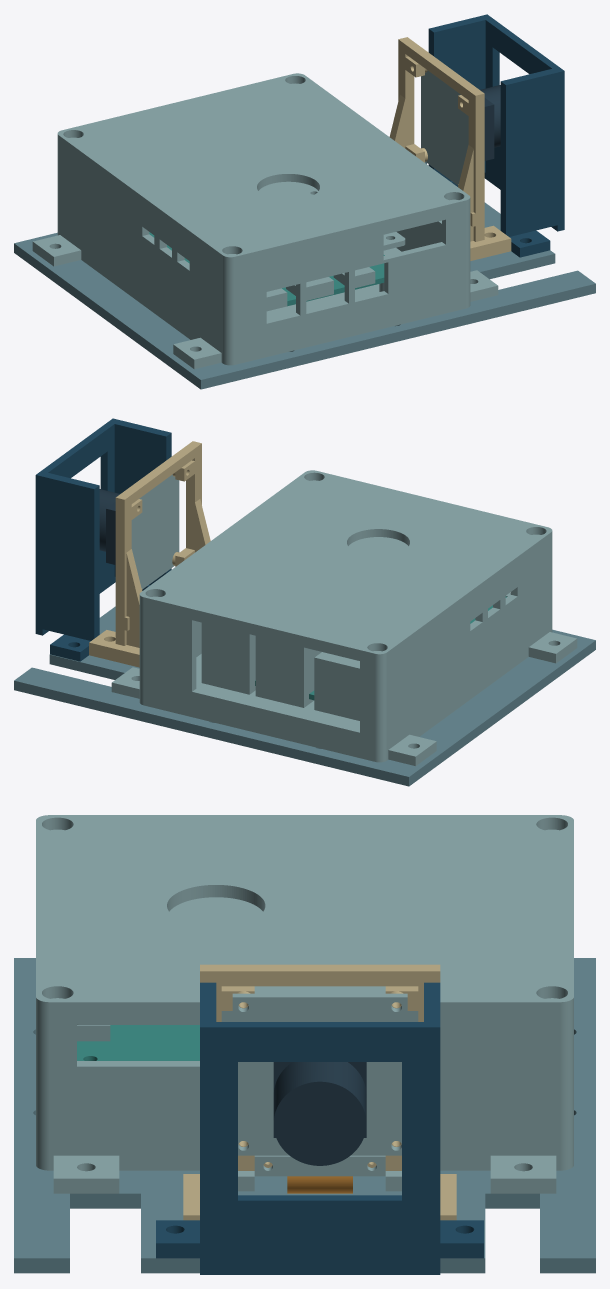
Rendered from vision-v2.glb.
3 views of the same model, one above another, from view 1: azimuth 30°, elevation 25°; view 2: azimuth 150°, elevation 25°; view 3: azimuth 270°, elevation 25° (orthographic). The views are drawn at different scales.
Visible parts, largest first — view 1: CASE_lid, NEW_CaseBaseWithEars, NEW_RemovableGuard, NEW_CommonFrame, NEW_CameraCarrier, REF_CameraPCB, REF_LensEnvelope, REF_top_plate, REF_lbc3_board, REF_mini_HDMI_envelope; view 2: CASE_lid, NEW_CaseBaseWithEars, NEW_RemovableGuard, NEW_CommonFrame, NEW_CameraCarrier, REF_CameraPCB, REF_USB3_envelope, REF_USB2_envelope, REF_RJ45_envelope, REF_LensEnvelope, REF_top_plate; view 3: CASE_lid, NEW_RemovableGuard, NEW_CommonFrame, NEW_CaseBaseWithEars, REF_CameraPCB, NEW_CameraCarrier, REF_LensEnvelope, REF_lbc3_board, NEW_CameraCableJaw, REF_top_plate, REF_FPCRoute_Assumed, NEW_ExitSaddle.
Boxes of the visible parts, x1,y1,x2,y2 form: CASE_lid: (57,73,470,306); NEW_CaseBaseWithEars: (32,184,498,369); NEW_RemovableGuard: (428,14,564,257); NEW_CommonFrame: (14,161,595,389); NEW_CameraCarrier: (389,37,511,260); REF_CameraPCB: (421,70,468,185); REF_LensEnvelope: (480,85,500,160); REF_top_plate: (258,181,405,250); REF_lbc3_board: (149,232,384,306); REF_mini_HDMI_envelope: (286,277,333,300); CASE_lid: (139,470,552,703); NEW_CaseBaseWithEars: (111,580,577,766); NEW_RemovableGuard: (35,418,171,661); NEW_CommonFrame: (14,606,595,786); NEW_CameraCarrier: (89,441,210,667); REF_CameraPCB: (131,474,179,589); REF_USB3_envelope: (255,636,321,707); REF_USB2_envelope: (201,622,255,694); REF_RJ45_envelope: (314,652,359,720); REF_LensEnvelope: (99,489,119,564); REF_top_plate: (348,537,408,553); CASE_lid: (36,815,573,1078); NEW_RemovableGuard: (156,982,483,1274); NEW_CommonFrame: (14,958,595,1273); NEW_CaseBaseWithEars: (36,1074,573,1193); REF_CameraPCB: (232,993,407,1155); NEW_CameraCarrier: (183,964,456,1220); REF_LensEnvelope: (273,1062,366,1165); REF_lbc3_board: (77,1025,199,1060); NEW_CameraCableJaw: (254,1155,385,1176); REF_top_plate: (77,897,262,1024); REF_FPCRoute_Assumed: (287,1176,352,1193); NEW_ExitSaddle: (238,1171,401,1191).
Bounding box in the file's own units: 139 × 54 × 106.
